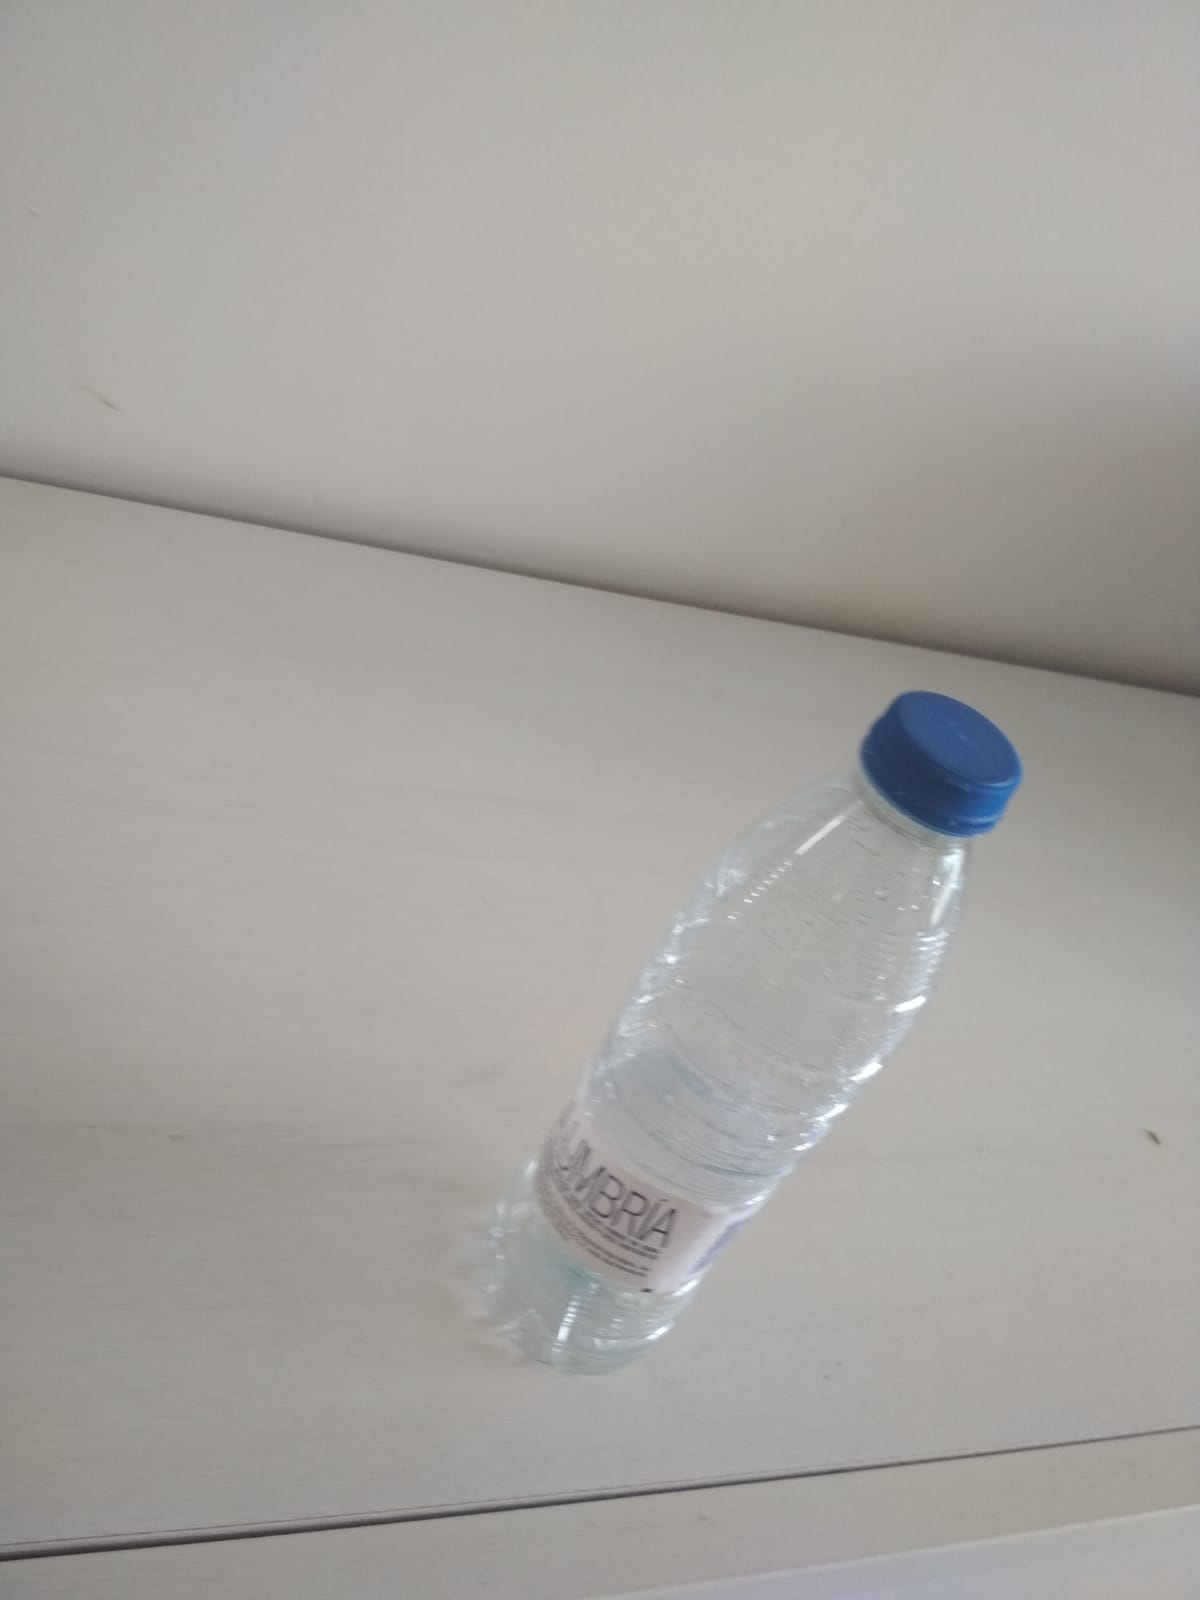botella plastico: (488, 687, 1029, 1368)
